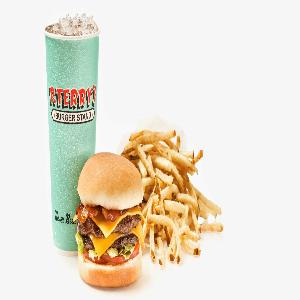cheeseburger_475cal: (74, 151, 144, 289)
fries_350cal: (144, 123, 228, 270)
